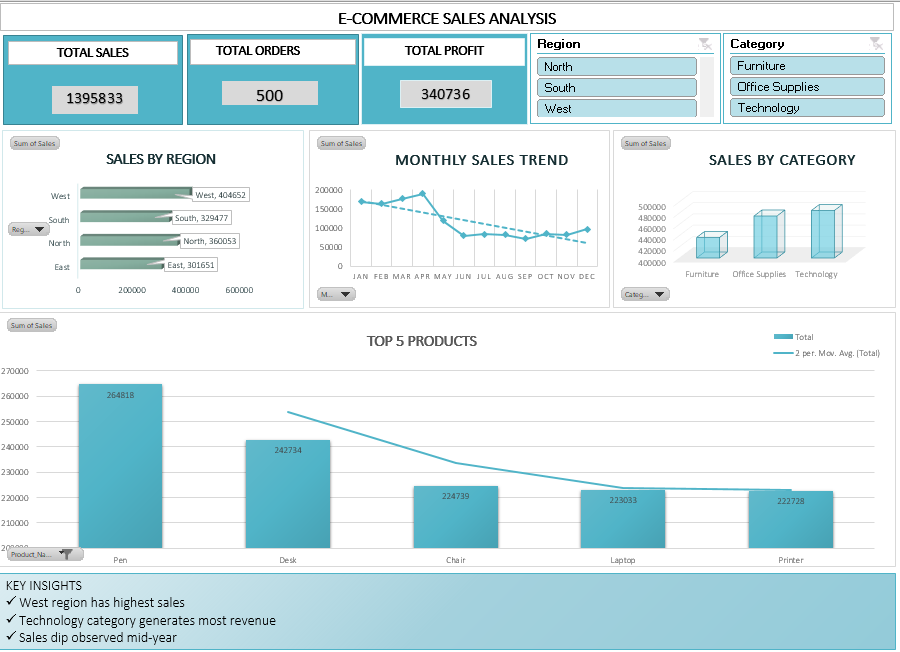

Layout of this report page (visuals, bound fields, positions):
{"tool":"powerbi","page":{"name":"sales analysis","canvas":[1280,720],"ordinal":0},"visuals":[{"type":"actionButton","box":[0,0,100,40],"z":0},{"type":"group","id":"g1","title":"Group 4","box":[5,0,1093.8,65],"z":0,"group":"g5"},{"type":"card","title":"Total sales ","fields":{"Values":["Sum(orders csv.Sales)"]},"box":[22.9,80,318.6,130],"z":0,"group":"g3"},{"type":"card","title":"Total Profit","fields":{"Values":["Sum(orders csv.Profit)"]},"box":[345.7,80.3,348.6,130],"z":0,"group":"g2"},{"type":"image","box":[13.8,5,70,70],"z":1000,"group":"g5"},{"type":"card","title":"Total orders","fields":{"Values":["CountNonNull(orders csv.Order_ID)"]},"box":[706.9,78,321.4,132.9],"z":1000,"group":"g4"},{"type":"barChart","title":"Sales by Region","fields":{"Category":["orders csv.Region"],"Y":["Sum(orders csv.Sales)"]},"box":[22.9,221.4,595.7,207.1],"z":1000},{"type":"columnChart","title":"Sales by Category","fields":{"Category":["orders csv.Category"],"Y":["Sum(orders csv.Sales)"]},"box":[635.7,221.4,638.6,207.1],"z":2000},{"type":"lineChart","title":"Monthly Sales Trend","fields":{"Category":["orders csv.Order_Date.Variation.Date Hierarchy.Month"],"Y":["Sum(orders csv.Sales)"]},"box":[21.4,442.9,654.3,261.4],"z":3000},{"type":"donutChart","title":"Profit By Category","fields":{"Y":["Sum(orders csv.Profit)"],"Category":["orders csv.Category"]},"box":[984.3,435.7,290,268.6],"z":4000},{"type":"slicer","fields":{"Values":["orders csv.Region"]},"box":[1035.7,78.6,238.6,60],"z":5000},{"type":"slicer","fields":{"Values":["orders csv.Category"]},"box":[1035.7,150,238.6,61.4],"z":6000},{"type":"group","id":"g2","title":"Group 2","box":[345.7,80,348.6,130],"z":7000},{"type":"image","box":[16.2,0,67.5,65],"z":8000,"group":"g1"},{"type":"group","id":"g3","title":"Group 1","box":[22.9,80,318.6,130],"z":8000},{"type":"group","id":"g4","title":"Group 3","box":[706.9,78,321.4,132.9],"z":9000},{"type":"image","box":[903.9,89,80.4,48.3],"z":9000,"group":"g4"},{"type":"group","id":"g5","title":"Group 5","box":[5,0,1093.8,75],"z":10000},{"type":"image","box":[550.2,80,86.4,48.6],"z":10000,"group":"g2"},{"type":"barChart","title":"Sales by Products","fields":{"Category":["orders csv.Product_Name"],"Y":["Sum(orders csv.Sales)"]},"box":[694.3,435.7,278.6,268.6],"z":10001},{"type":"textbox","box":[5,0,1093.8,63.8],"z":11001,"group":"g1"},{"type":"image","box":[199.4,85.1,77,44.9],"z":13002,"group":"g3"}]}

Visuals, with their boxes on the page's 1280x720 design canvas (x1, y1, x2, y2). These are canvas units, not pixel positions in the 900x652 screenshot, which may show the page scaled, cropped or inside an application window:
actionButton: region(0, 0, 100, 40)
"Group 4" group: region(5, 0, 1099, 65)
"Total sales " card: region(23, 80, 342, 210)
"Total Profit" card: region(346, 80, 694, 210)
image: region(14, 5, 84, 75)
"Total orders" card: region(707, 78, 1028, 211)
"Sales by Region" barChart: region(23, 221, 619, 428)
"Sales by Category" columnChart: region(636, 221, 1274, 428)
"Monthly Sales Trend" lineChart: region(21, 443, 676, 704)
"Profit By Category" donutChart: region(984, 436, 1274, 704)
slicer - orders csv.Region: region(1036, 79, 1274, 139)
slicer - orders csv.Category: region(1036, 150, 1274, 211)
"Group 2" group: region(346, 80, 694, 210)
image: region(16, 0, 84, 65)
"Group 1" group: region(23, 80, 342, 210)
"Group 3" group: region(707, 78, 1028, 211)
image: region(904, 89, 984, 137)
"Group 5" group: region(5, 0, 1099, 75)
image: region(550, 80, 637, 129)
"Sales by Products" barChart: region(694, 436, 973, 704)
textbox: region(5, 0, 1099, 64)
image: region(199, 85, 276, 130)
